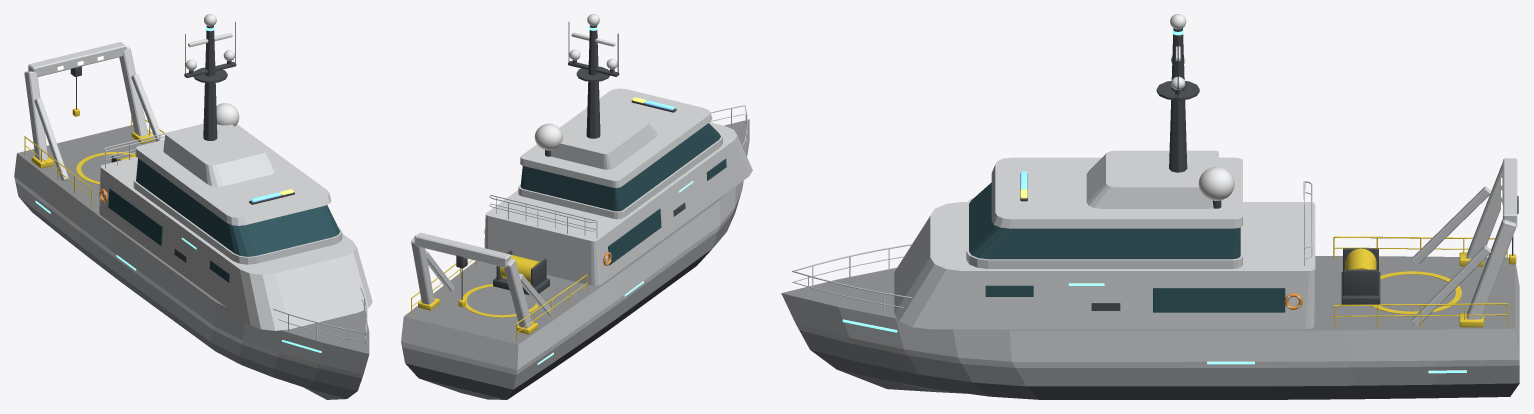
The model's file is harbour-patrol.glb.
3 renders of one model, left to right at view 1: azimuth 30°, elevation 25°; view 2: azimuth 150°, elevation 25°; view 3: azimuth 270°, elevation 25°, orthographic. The views are drawn at different scales.
Parts seen in each view (by area): view 1: harbour_hull, harbour_house, harbour_bridge_roof, harbour_bridge_glass, harbour_top, harbour_mast, harbour_bridge_body, harbour_aframe_top, harbour_lab_window-1, harbour_aframe_leg+1, harbour_aframe_leg-1, harbour_aframe_brace-1 (+5 smaller); view 2: harbour_hull, harbour_house, harbour_bridge_roof, harbour_bridge_glass, harbour_top, harbour_mast, harbour_bridge_body, harbour_aframe_top, harbour_lab_window-1, harbour_aframe_leg-1, harbour_house_rail, harbour_aframe_leg+1 (+8 smaller); view 3: harbour_hull, harbour_house, harbour_bridge_roof, harbour_bridge_glass, harbour_top, harbour_lab_window+1, harbour_bridge_body, harbour_mast, harbour_aframe_leg+1, harbour_aframe_leg-1, harbour_aframe_brace-1, harbour_rail_fwd0 (+6 smaller).
Part boxes in pixels (<box>): harbour_hull: <box>14,125,369,399</box>; harbour_house: <box>99,157,372,330</box>; harbour_bridge_roof: <box>135,124,331,225</box>; harbour_bridge_glass: <box>136,158,340,256</box>; harbour_top: <box>163,124,275,186</box>; harbour_mast: <box>184,14,236,140</box>; harbour_bridge_body: <box>133,178,342,264</box>; harbour_aframe_top: <box>28,42,126,76</box>; harbour_lab_window-1: <box>108,188,162,246</box>; harbour_aframe_leg+1: <box>119,47,148,136</box>; harbour_aframe_leg-1: <box>24,71,48,160</box>; harbour_aframe_brace-1: <box>34,98,68,180</box>; harbour_hull: <box>401,119,749,399</box>; harbour_house: <box>484,122,752,285</box>; harbour_bridge_roof: <box>520,88,712,187</box>; harbour_bridge_glass: <box>520,123,720,211</box>; harbour_top: <box>551,109,657,169</box>; harbour_mast: <box>568,14,619,138</box>; harbour_bridge_body: <box>518,132,722,219</box>; harbour_aframe_top: <box>414,232,510,267</box>; harbour_lab_window-1: <box>608,208,661,265</box>; harbour_aframe_leg-1: <box>504,258,532,328</box>; harbour_house_rail: <box>489,194,597,238</box>; harbour_aframe_leg+1: <box>411,235,434,304</box>; harbour_hull: <box>781,256,1519,399</box>; harbour_house: <box>894,202,1315,329</box>; harbour_bridge_roof: <box>991,157,1242,228</box>; harbour_bridge_glass: <box>969,182,1240,259</box>; harbour_top: <box>1086,150,1218,208</box>; harbour_lab_window+1: <box>1153,288,1285,312</box>; harbour_bridge_body: <box>966,198,1242,268</box>; harbour_mast: <box>1156,14,1199,172</box>; harbour_aframe_leg+1: <box>1466,219,1516,319</box>; harbour_aframe_leg-1: <box>1466,162,1502,258</box>; harbour_aframe_brace-1: <box>1411,186,1490,264</box>; harbour_rail_fwd0: <box>792,244,912,315</box>.
Bounding box in the file's own units: 7.59 × 17.17 × 30.7.
